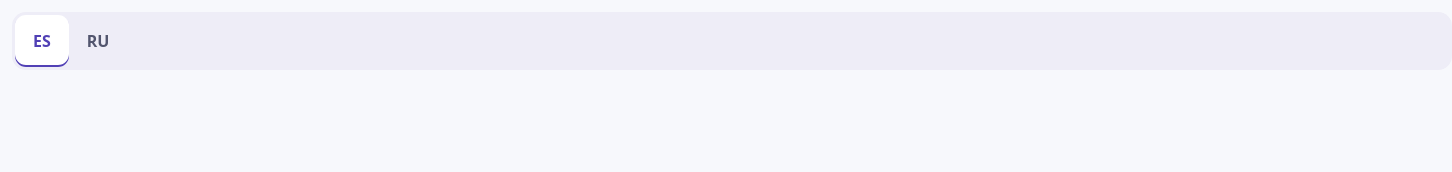
displays only committed preferences after a failed save and refreshes on legacy restore
Later steps or results of the test are not shown.
Click the button with aria-label "Русский": click(98, 41) [71,15,125,67]
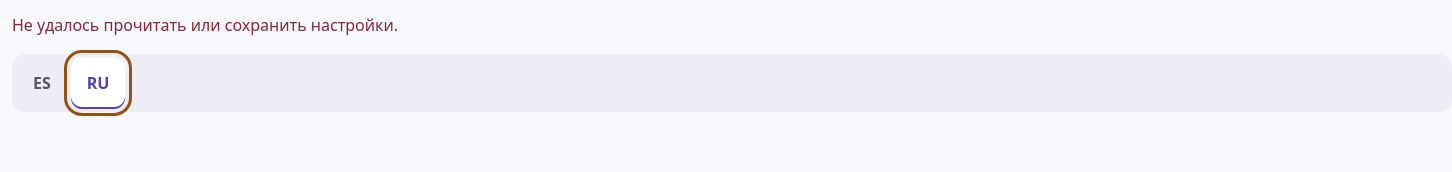
expect the message "Не удалось прочитать или сохранить настройки." is shown: met, box [12,14,398,36]
